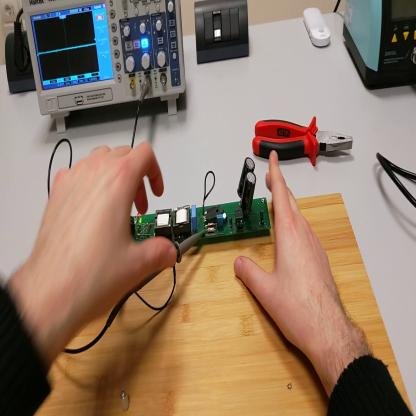hand: (36, 139, 178, 329), (234, 151, 344, 360)
high voltage board: (134, 159, 272, 245)
oscilloscope: (24, 3, 188, 133)
oscilloscope probe tip: (125, 227, 205, 299)
pliers: (254, 115, 353, 169)
socket: (6, 25, 39, 98)
welder station: (344, 2, 416, 93)
working area: (34, 196, 411, 415)
